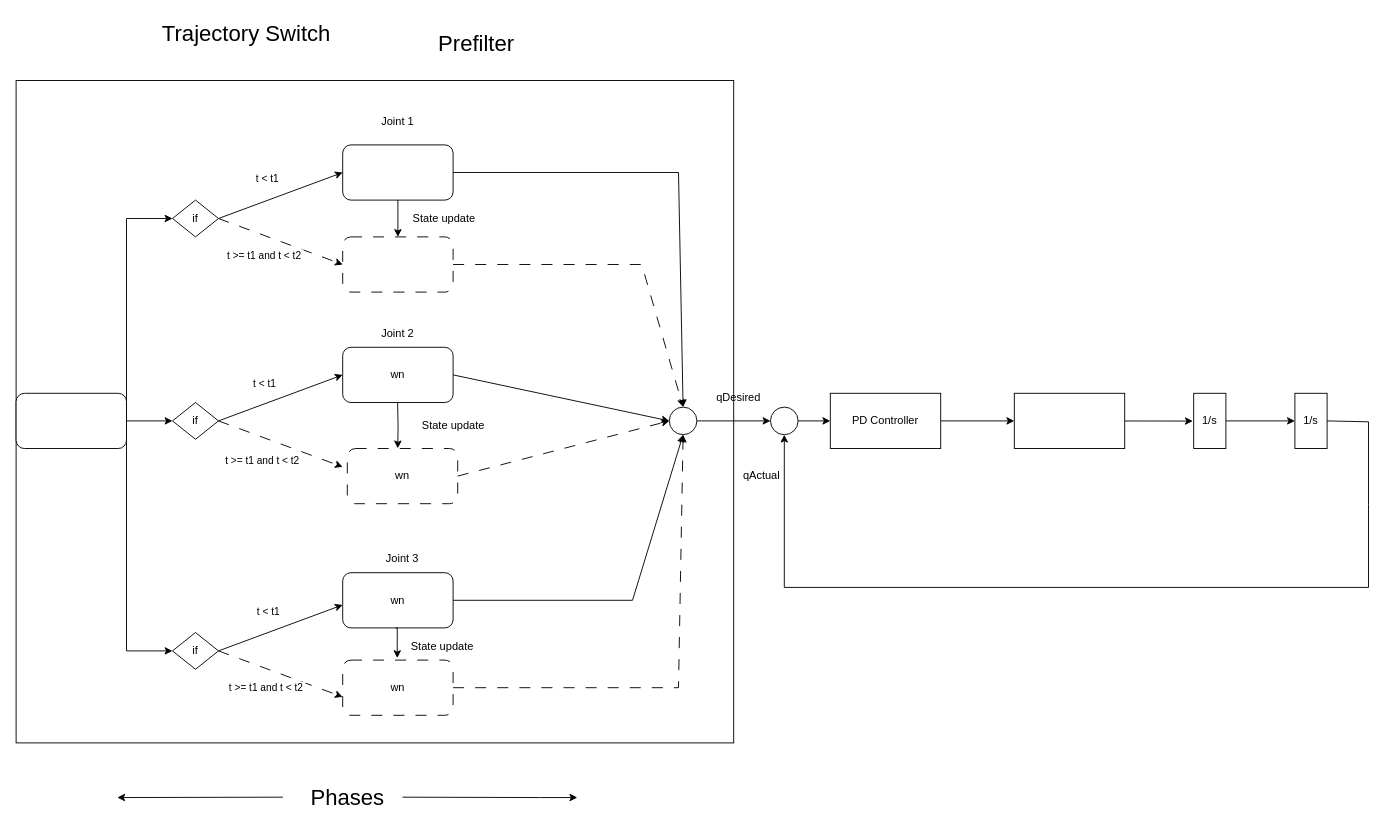
Some shapes in this 1392 by 832 pixel diagram are drawn without their labels. The centre of each missing label's shape, as x and y in pixels:
"Final point" goes at [70,420].
"Plant" goes at [1069,420].
"wn1" goes at [397,172].
"wn2" goes at [397,264].
